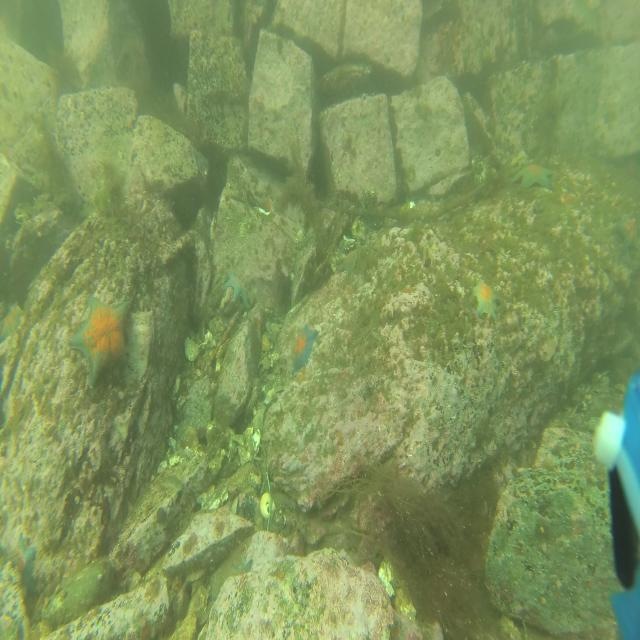starfish: (67, 288, 131, 392), (8, 531, 38, 593), (470, 275, 500, 323), (508, 161, 556, 191), (291, 323, 320, 371), (614, 207, 640, 257), (222, 270, 252, 311), (0, 300, 25, 337), (340, 247, 362, 279)
